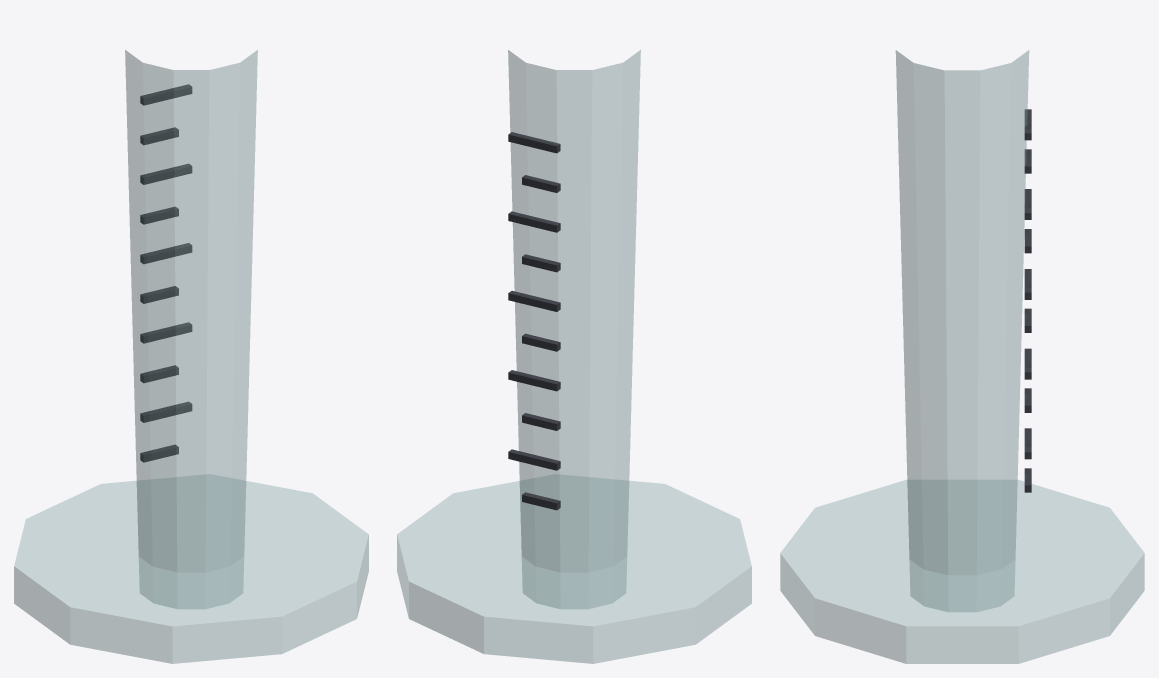
Rendered from gradcylinder.glb.
The picture shows the model from 3 angles, left to right: view 1: azimuth 30°, elevation 25°; view 2: azimuth 150°, elevation 25°; view 3: azimuth 270°, elevation 25°; orthographic projection.
Visible parts, largest first — view 1: block_transparent tube, block_graduated foot, block_graduation (×5); view 2: block_transparent tube, block_graduated foot, block_graduation (×5); view 3: block_transparent tube, block_graduated foot.
Boxes of the visible parts, <box> form: block_transparent tube: <box>125,50,257,608</box>; block_graduated foot: <box>14,474,368,663</box>; block_graduation (×5): <box>140,84,192,422</box>; block_transparent tube: <box>508,50,640,608</box>; block_graduated foot: <box>397,474,751,663</box>; block_graduation (×5): <box>508,132,560,470</box>; block_transparent tube: <box>895,50,1029,611</box>; block_graduated foot: <box>780,479,1144,663</box>.
Size of the model in its own units: 0.1432 by 0.25 by 0.1506.
Materials: 2 (2 with a texture image).
